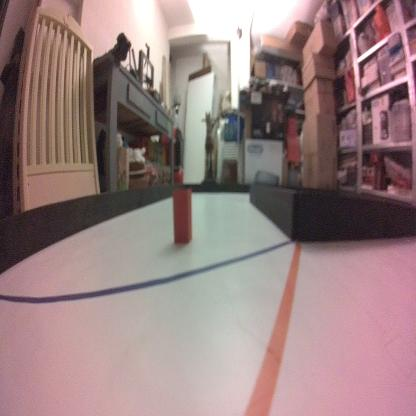red: (172, 186, 192, 244)
